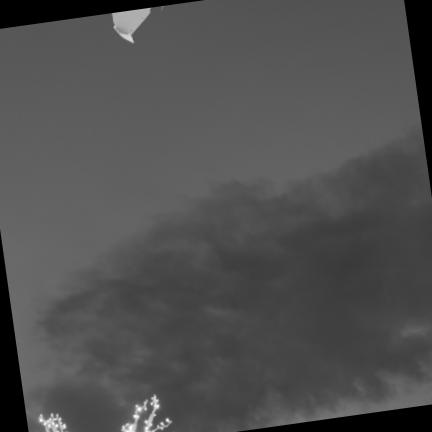Shahed: (112, 7, 150, 42)
